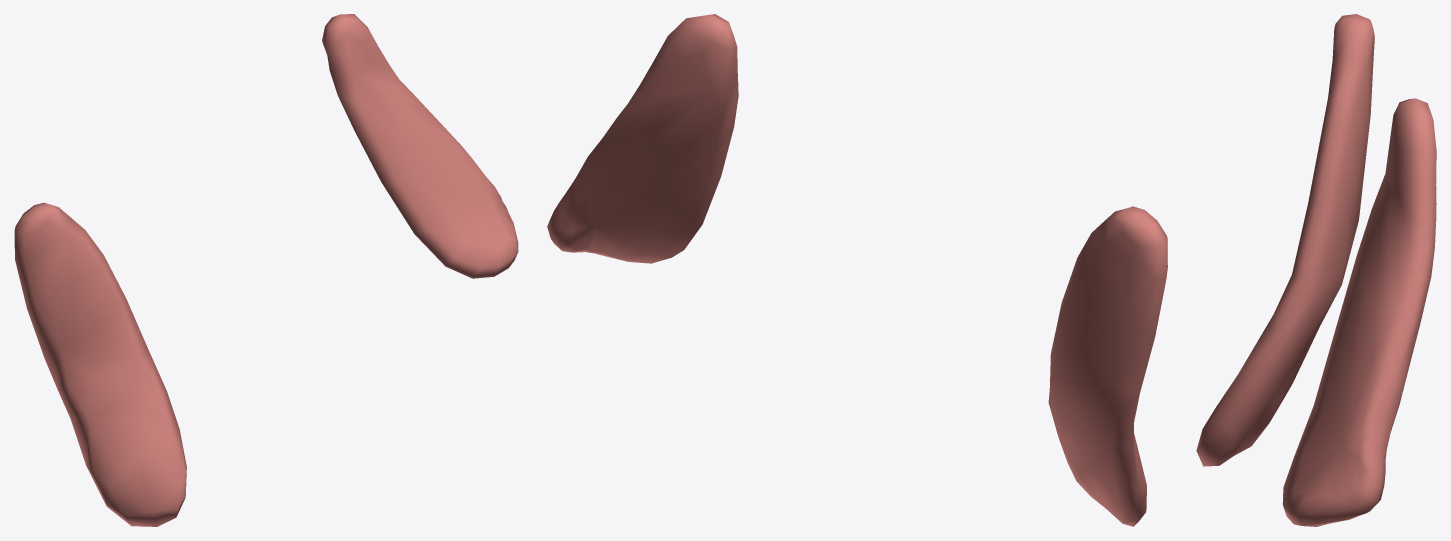
3 renders of one model, left to right at view 1: azimuth 30°, elevation 25°; view 2: azimuth 150°, elevation 25°; view 3: azimuth 270°, elevation 25°, orthographic. The views are drawn at different scales.
Parts seen in each view (by area): view 1: ZA_27af39665bc5af7d; view 2: ZA_27af39665bc5af7d; view 3: ZA_27af39665bc5af7d.
Part boxes in pixels (x1,y1,x2,y2): ZA_27af39665bc5af7d: (14, 14, 518, 526); ZA_27af39665bc5af7d: (547, 14, 1167, 526); ZA_27af39665bc5af7d: (1196, 14, 1436, 526).
Bounding box in the file's own units: 0.00904 × 0.00689 × 0.00278.
